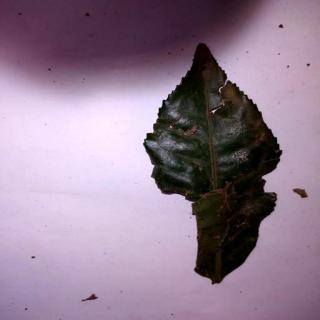Anthracnose: (146, 43, 284, 284)
